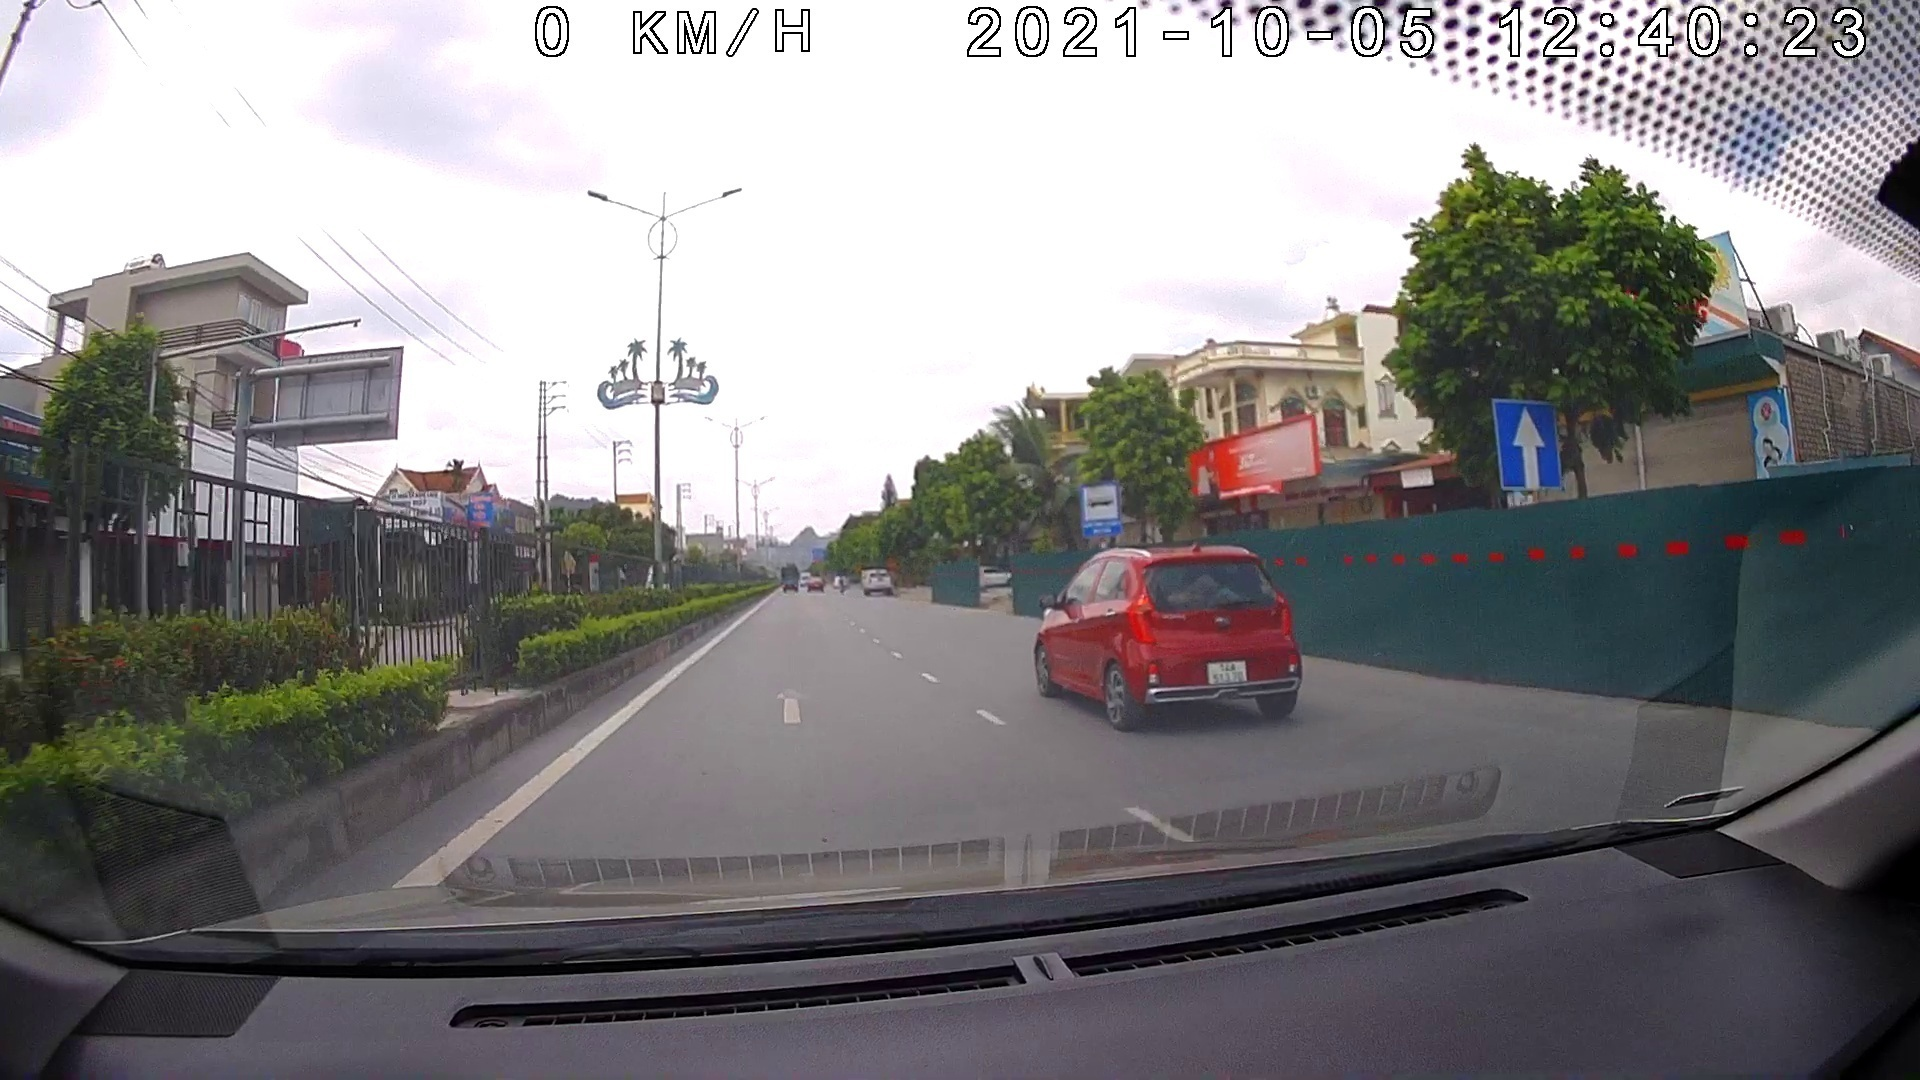Bien khac: (1489, 392, 1563, 491), (1079, 477, 1124, 535)
